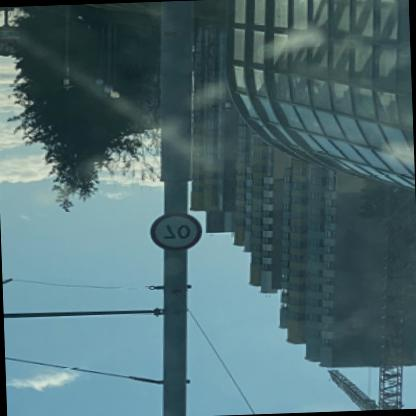speedlimit: (148, 212, 202, 252)
